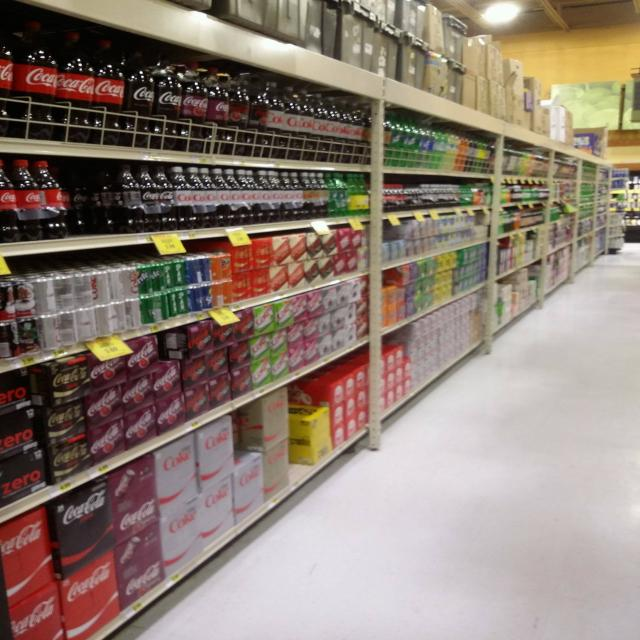empty: (62, 162, 128, 234)
